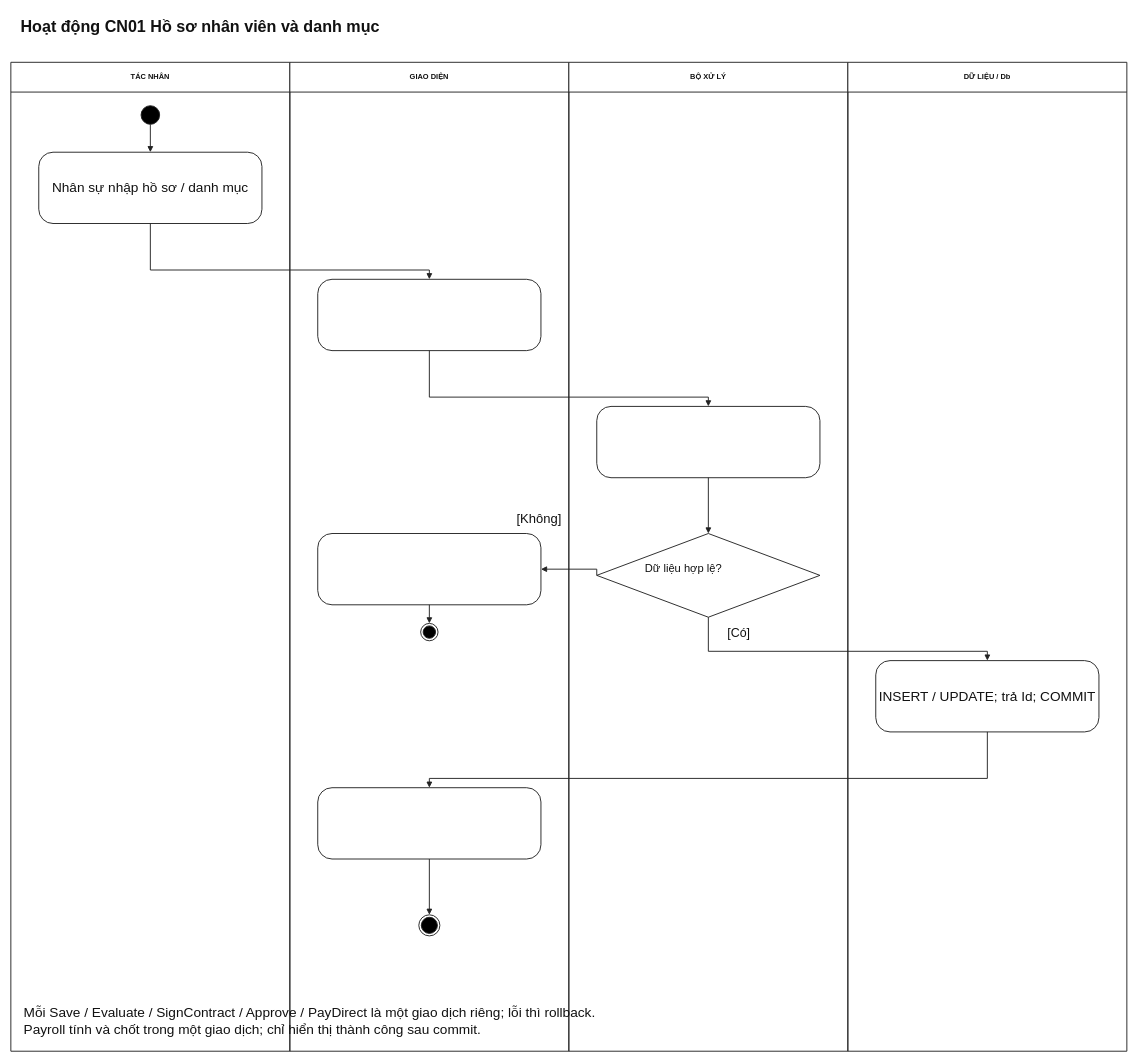
This 1138x1062 diagram has some shape labels left out. Each missing label, with the centre of its shape:
"FrmEditor kiểm tra trường bắt buộc" belongs at (429,315).
"Reload; hiển thị hồ sơ và lịch sử" belongs at (429,823).
"ROLLBACK; báo trường sai; không lưu" belongs at (429,569).
"Save: Validate và mở giao dịch" belongs at (708,442).
